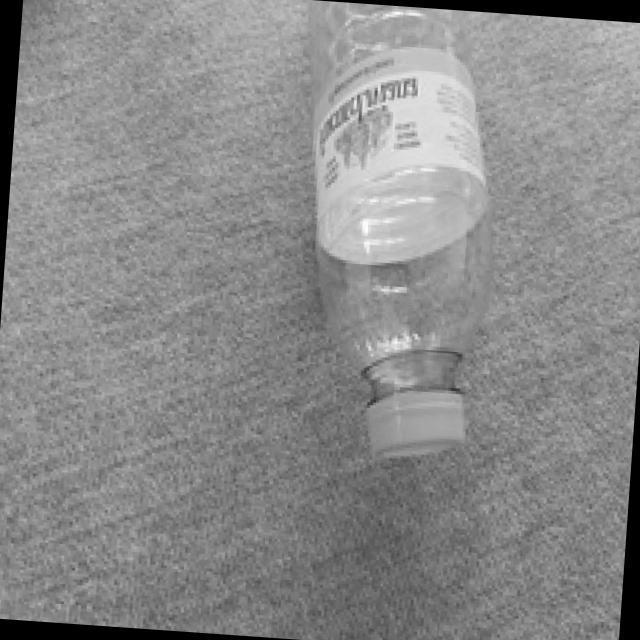good: (276, 0, 517, 491)
